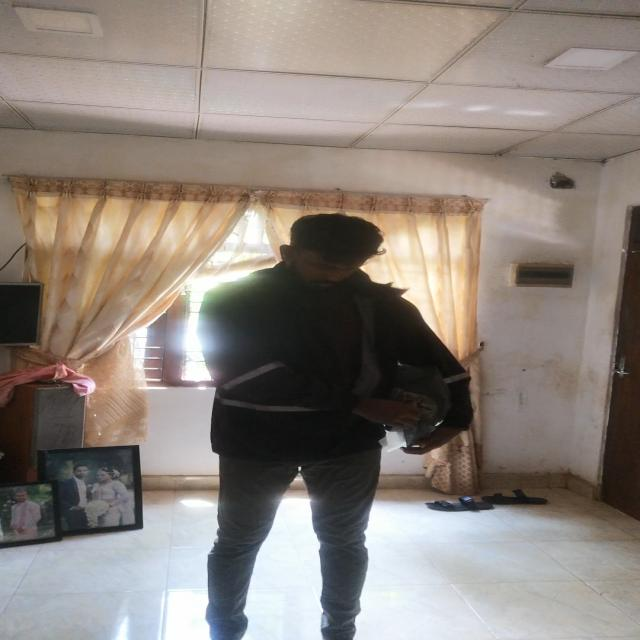Jacket_Wearer: (200, 264, 476, 486)
Person: (188, 209, 489, 640)
